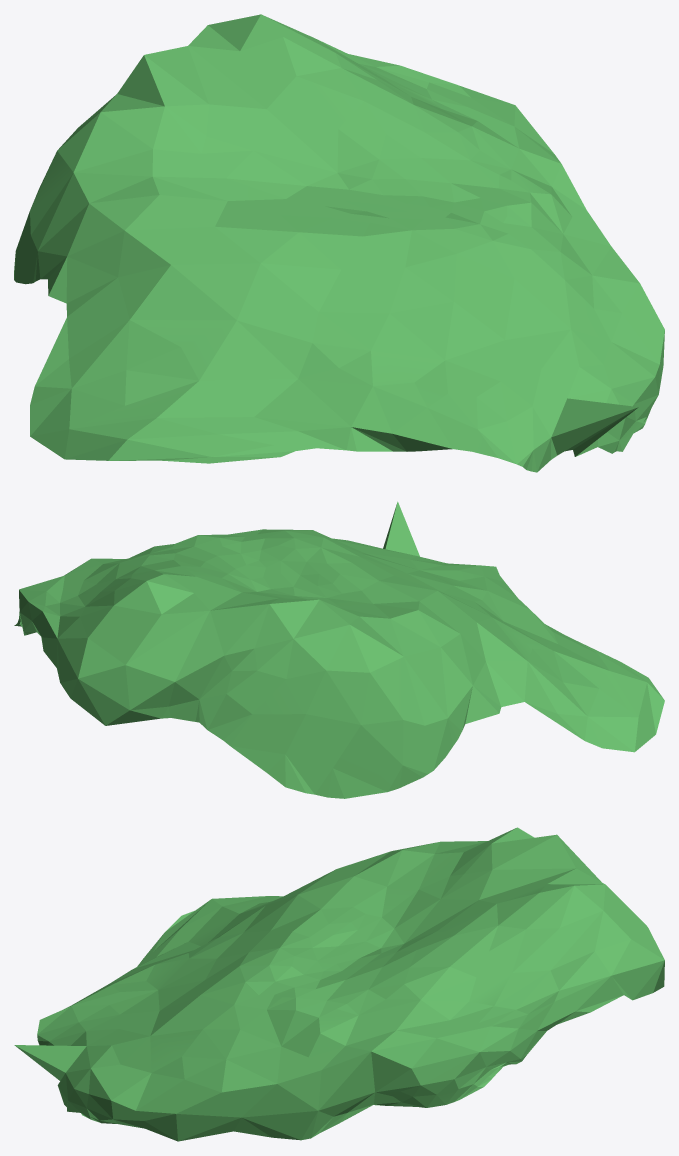
The model's file is ground.073.fbx.
The picture shows the model from 3 angles, top to bottom: view 1: azimuth 30°, elevation 25°; view 2: azimuth 150°, elevation 25°; view 3: azimuth 270°, elevation 25°; orthographic projection. The views are drawn at different scales.
Parts seen in each view (by area): view 1: ground_073; view 2: ground_073; view 3: ground_073.
Part boxes in pixels (x1=…): ground_073: x1=14, y1=14, x2=664, y2=472; ground_073: x1=14, y1=501, x2=664, y2=798; ground_073: x1=14, y1=827, x2=664, y2=1141.
Size of the model in its own units: 14729 by 5542 by 16377.
